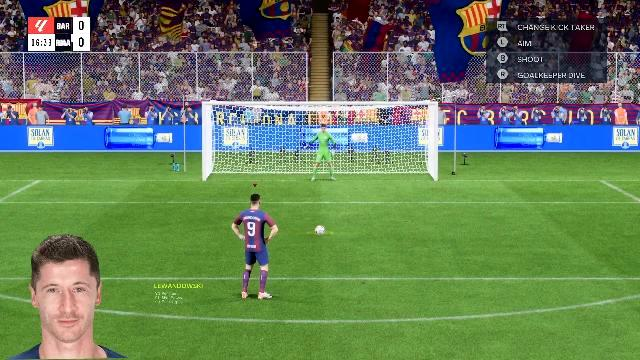bottom-left: (206, 148, 284, 180)
bottom-right: (362, 148, 432, 180)
center-down: (285, 148, 363, 180)
center-up: (284, 106, 356, 148)
circle: (308, 231, 334, 236)
football: (314, 227, 328, 235)
goalkeeper: (302, 124, 348, 182)
player: (228, 196, 280, 300)
top-left: (206, 105, 282, 146)
top-right: (362, 105, 436, 146)
